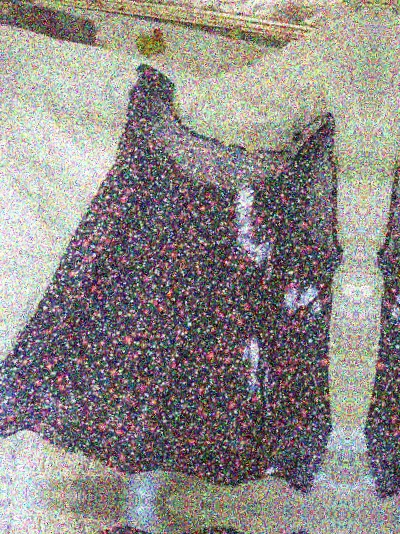Dress: (0, 57, 365, 485), (352, 82, 400, 510), (0, 520, 334, 534)
